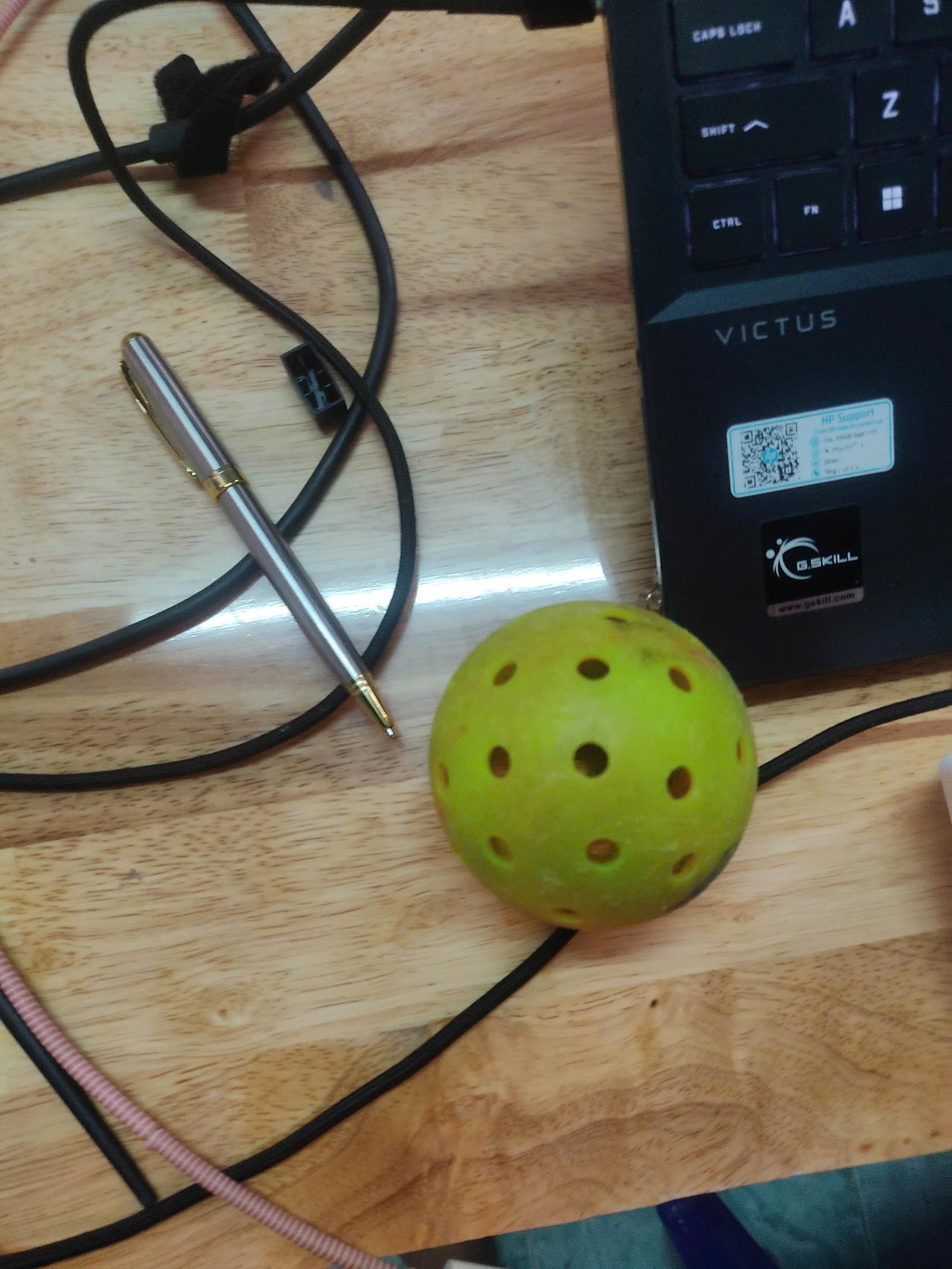ball: (421, 591, 757, 942)
